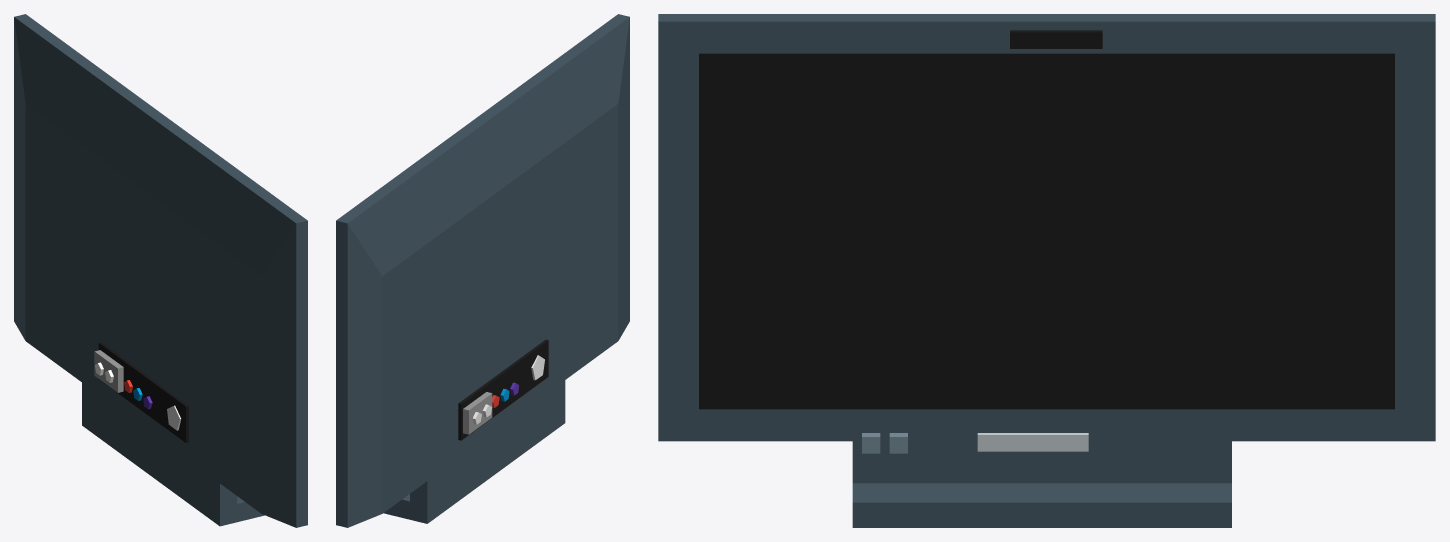
Rendered from deco_tv3.glb.
3 views of the same model, side by side, from view 1: azimuth 30°, elevation 25°; view 2: azimuth 150°, elevation 25°; view 3: azimuth 270°, elevation 25° (orthographic). The views are drawn at different scales.
Visible parts, largest first — view 1: group92271265, group1620342709, group1327186335, group1341483506, group714233124; view 2: group92271265, group1620342709, group1327186335, group1341483506, group714233124; view 3: group92271265, group1327186335, group1620342709, group1907903330, group1296451540.
Boxes of the visible parts, x1=… form: group92271265: x1=14, y1=14, x2=307, y2=527; group1620342709: x1=82, y1=383, x2=237, y2=507; group1327186335: x1=82, y1=407, x2=264, y2=526; group1341483506: x1=98, y1=342, x2=188, y2=442; group714233124: x1=94, y1=350, x2=123, y2=392; group92271265: x1=336, y1=14, x2=629, y2=527; group1620342709: x1=410, y1=380, x2=565, y2=505; group1327186335: x1=383, y1=405, x2=565, y2=523; group1341483506: x1=458, y1=339, x2=548, y2=440; group714233124: x1=463, y1=392, x2=492, y2=434; group92271265: x1=658, y1=14, x2=1435, y2=441; group1327186335: x1=852, y1=483, x2=1231, y2=527; group1620342709: x1=852, y1=441, x2=1231, y2=483; group1907903330: x1=977, y1=433, x2=1088, y2=451; group1296451540: x1=1010, y1=30, x2=1102, y2=48.
Size of the model in its own units: 0.1108 by 0.58 by 0.84.
